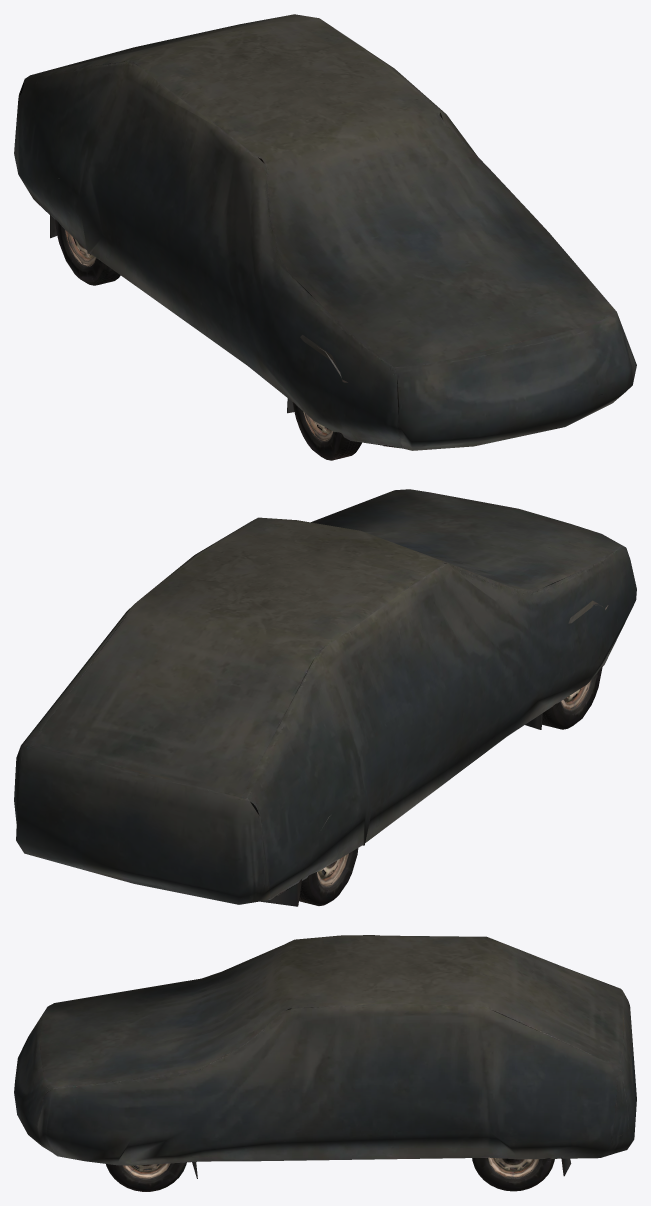
Rendered from covered_car.glb.
The picture shows the model from 3 angles, top to bottom: view 1: azimuth 30°, elevation 25°; view 2: azimuth 150°, elevation 25°; view 3: azimuth 270°, elevation 25°; orthographic projection. The views are drawn at different scales.
Parts seen in each view (by area): view 1: covered_car, covered_car_wheel_03, covered_car_wheel_02; view 2: covered_car, covered_car_wheel_03, covered_car_wheel_02; view 3: covered_car, covered_car_wheel_04, covered_car_wheel_01.
Part boxes in pixels (x1,y1,x2,y2): covered_car: [14, 14, 636, 450]; covered_car_wheel_03: [55, 219, 120, 285]; covered_car_wheel_02: [292, 402, 361, 460]; covered_car: [14, 489, 636, 906]; covered_car_wheel_03: [299, 848, 358, 905]; covered_car_wheel_02: [542, 666, 602, 729]; covered_car: [14, 935, 636, 1178]; covered_car_wheel_04: [472, 1157, 554, 1191]; covered_car_wheel_01: [106, 1162, 186, 1191].
Bounding box in the file's own units: 1.79 × 1.41 × 4.38.
Materials: 1 (1 with a texture image).
